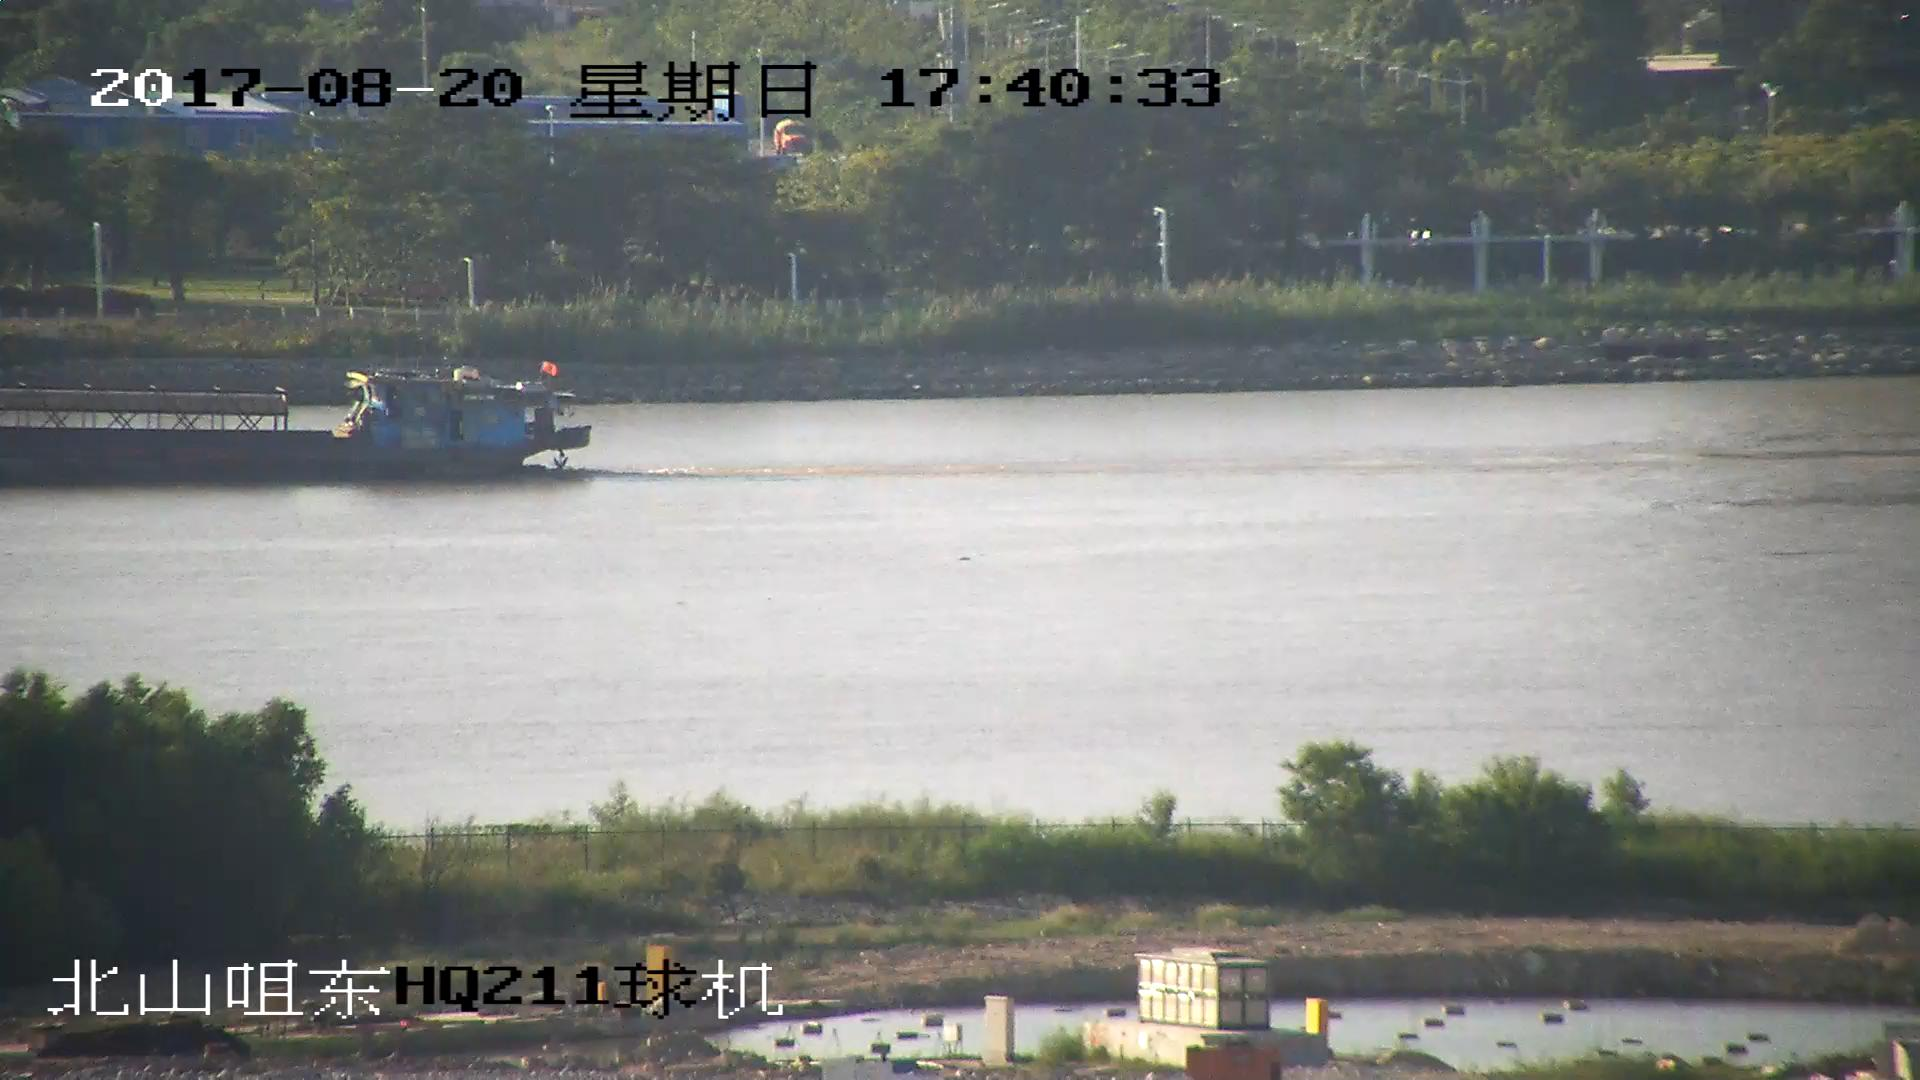fishing boat: (1, 359, 595, 482)
